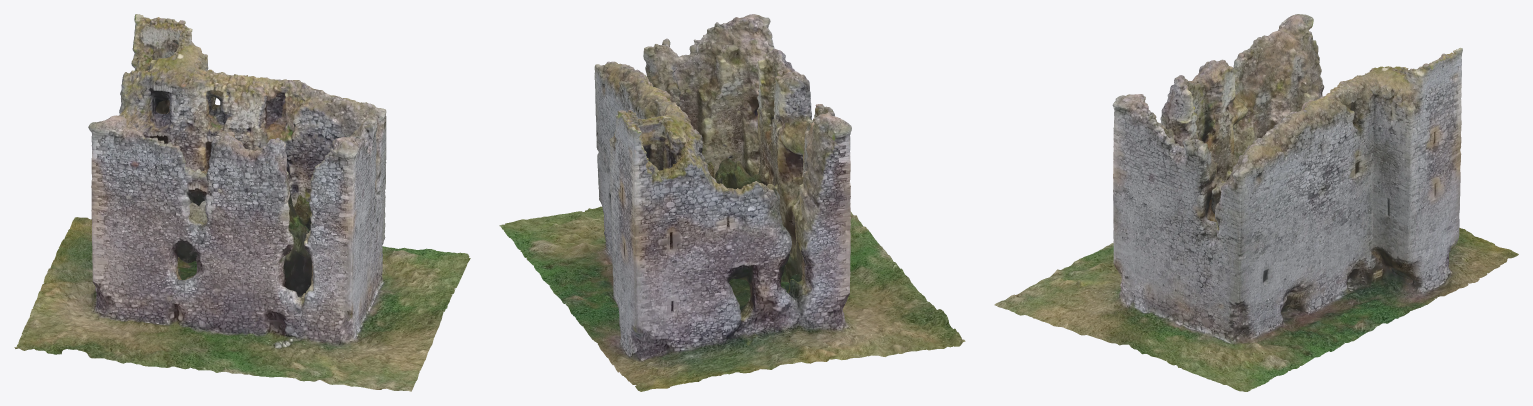
File: sf-lordscairnie-castle-ruin-5822b3.glb
3 renders of one model, left to right at view 1: azimuth 30°, elevation 25°; view 2: azimuth 150°, elevation 25°; view 3: azimuth 270°, elevation 25°, orthographic. The views are drawn at different scales.
Parts seen in each view (by area): view 1: Model_material1_0, Model_material0_0; view 2: Model_material0_0, Model_material1_0; view 3: Model_material0_0, Model_material1_0.
Boxes of the visible parts, box(x1,y1,x2,y2) form: Model_material1_0: box(73, 14, 470, 391); Model_material0_0: box(14, 23, 377, 384); Model_material0_0: box(595, 15, 965, 389); Model_material1_0: box(499, 14, 851, 391); Model_material0_0: box(1049, 14, 1512, 314); Model_material1_0: box(994, 14, 1518, 391).
Bounding box in the file's own units: 8.86 × 4.3 × 8.77.
Materials: 2 (2 with a texture image).
